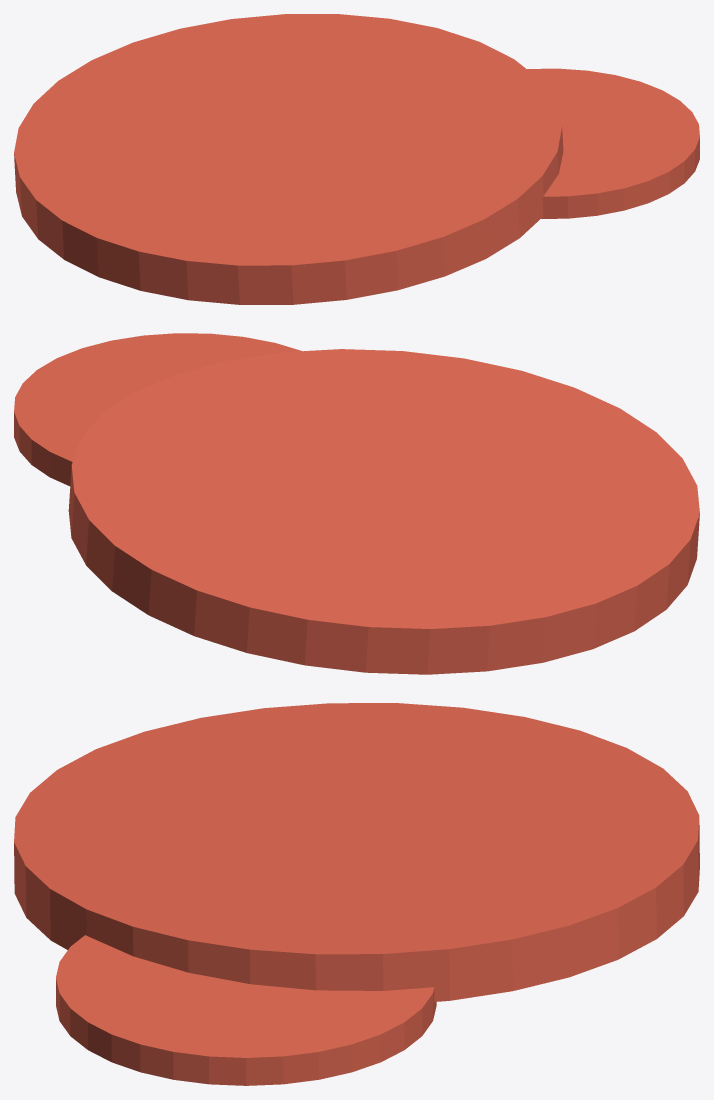
File: tomatoe.glb
3 renders of one model, top to bottom at view 1: azimuth 30°, elevation 25°; view 2: azimuth 150°, elevation 25°; view 3: azimuth 270°, elevation 25°, orthographic. The views are drawn at different scales.
Parts seen in each view (by area): view 1: Vegetal_2.001, Vegetal_1.001; view 2: Vegetal_2.001, Vegetal_1.001; view 3: Vegetal_2.001, Vegetal_1.001.
Boxes of the visible parts, <box> form: Vegetal_2.001: <box>14,14,563,304</box>; Vegetal_1.001: <box>527,68,699,218</box>; Vegetal_2.001: <box>68,349,699,674</box>; Vegetal_1.001: <box>14,333,302,486</box>; Vegetal_2.001: <box>14,703,699,1001</box>; Vegetal_1.001: <box>56,935,436,1085</box>.
Size of the model in its own units: 1.84 by 0.2132 by 1.5.
